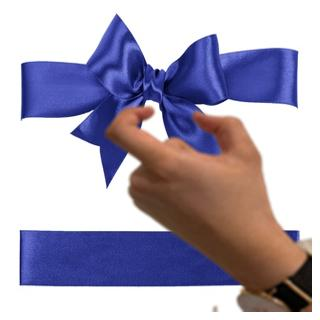HATE: (100, 101, 276, 260)
